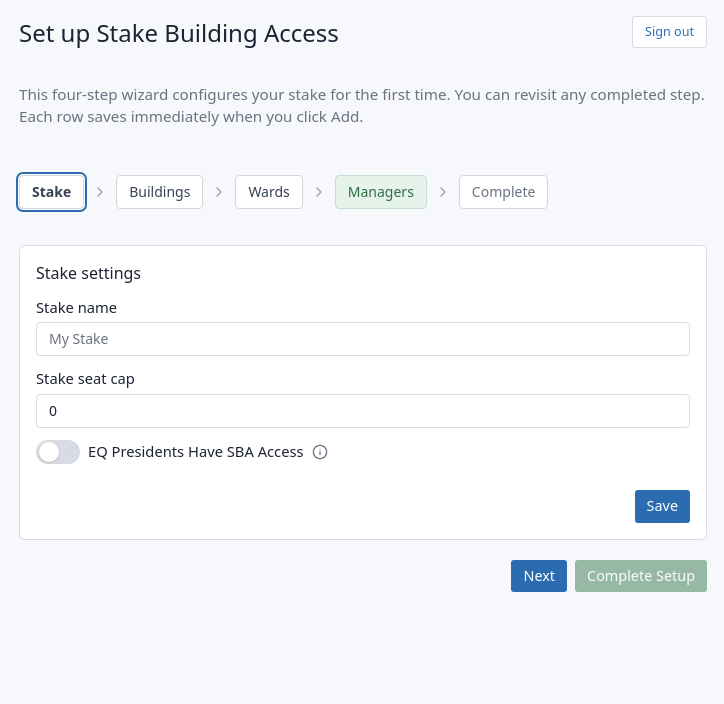
Test: <BootstrapWizardPage /> › Next-button gating on the buildings and wards steps › points at the missing building, not the ward, when step 3 is reached with step 2 empty
What coordinates should you click on to do the following:
click the tab with test id "wizard-step-tab-3"
I would click on:
 (269, 192)
Its box is [235,175,303,209].
(page scrolled)
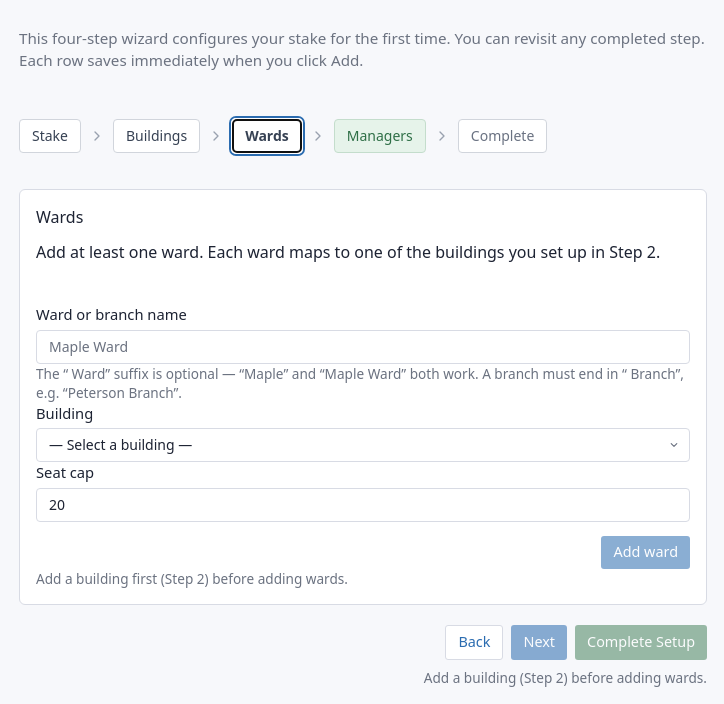
Expected: the text with test id "bootstrap-next-blocker" does not show "one ward", [424,668,707,688]
Expected: the button with test id "bootstrap-next" is disabled, [512,625,567,660]
Expected: the text with test id "bootstrap-next-blocker" shows "Add a building (Step 2) before adding wards", [424,668,707,687]
